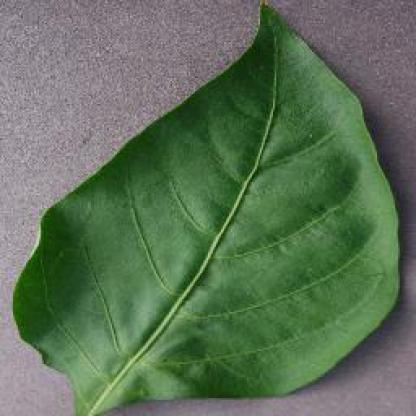good leaf: (14, 5, 414, 414)
